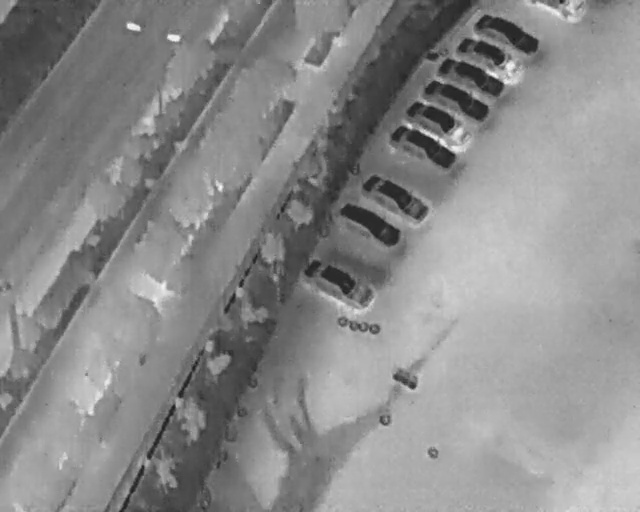Car: (297, 247, 381, 315), (357, 167, 435, 228), (385, 117, 463, 178), (399, 91, 477, 152), (417, 70, 495, 131), (332, 193, 408, 253), (470, 5, 546, 62), (434, 49, 510, 104), (452, 28, 528, 83), (533, 0, 589, 23)
